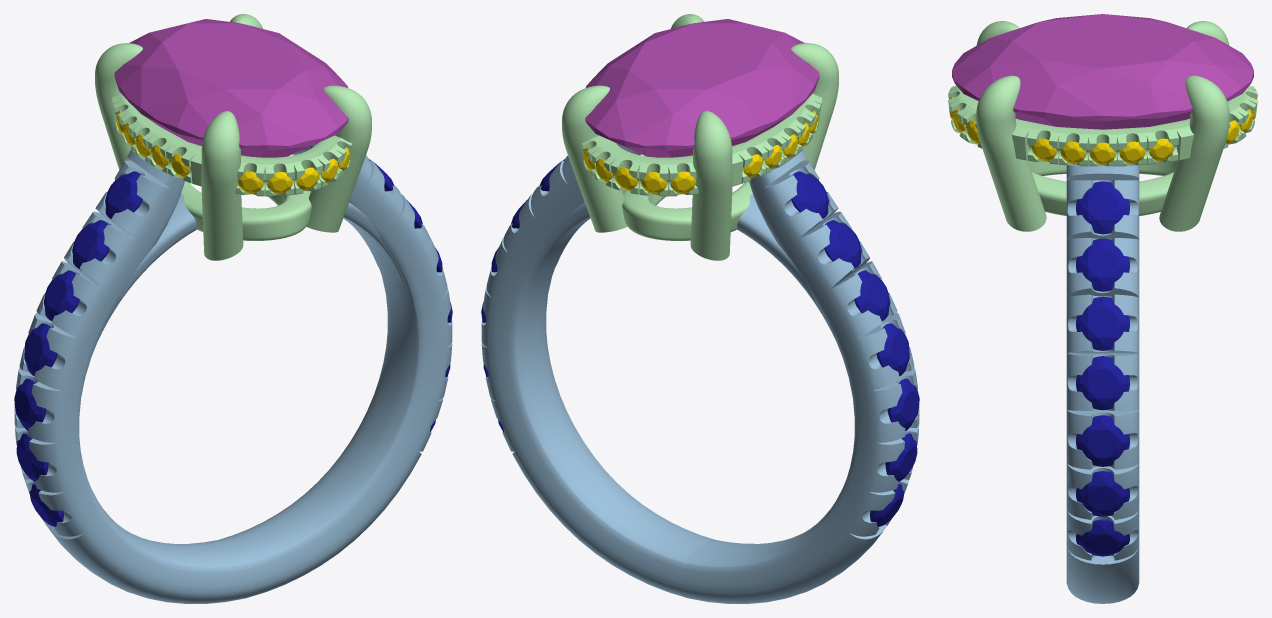
Rendered from cathedral.glb.
The picture shows the model from 3 angles, left to right: view 1: azimuth 30°, elevation 25°; view 2: azimuth 150°, elevation 25°; view 3: azimuth 270°, elevation 25°; orthographic projection.
Visible parts, largest first — view 1: Q 92667 REF 43797.3dm, Diamond_Oval; view 2: Q 92667 REF 43797.3dm, Diamond_Oval; view 3: Q 92667 REF 43797.3dm, Diamond_Oval, 1.1mm Rd Stone (×3).
Part boxes in pixels (<box>): Q 92667 REF 43797.3dm: <box>14,14,452,603</box>; Diamond_Oval: <box>114,19,348,157</box>; Q 92667 REF 43797.3dm: <box>481,14,919,603</box>; Diamond_Oval: <box>585,19,819,157</box>; Q 92667 REF 43797.3dm: <box>948,21,1257,603</box>; Diamond_Oval: <box>952,14,1253,129</box>; 1.1mm Rd Stone (×3): <box>1060,141,1145,164</box>.
Bounding box in the file's own units: 2.36 × 2.86 × 1.49.
